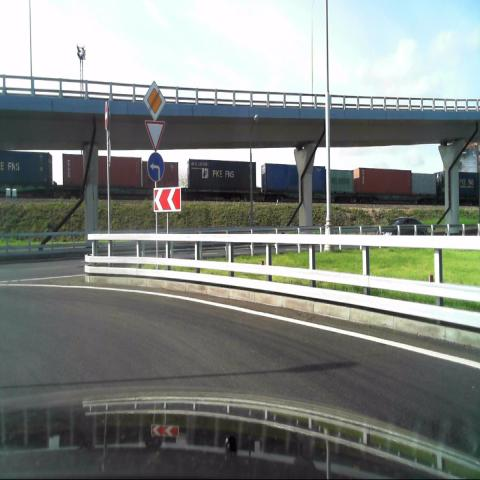4_1_3: (147, 152, 165, 183)
